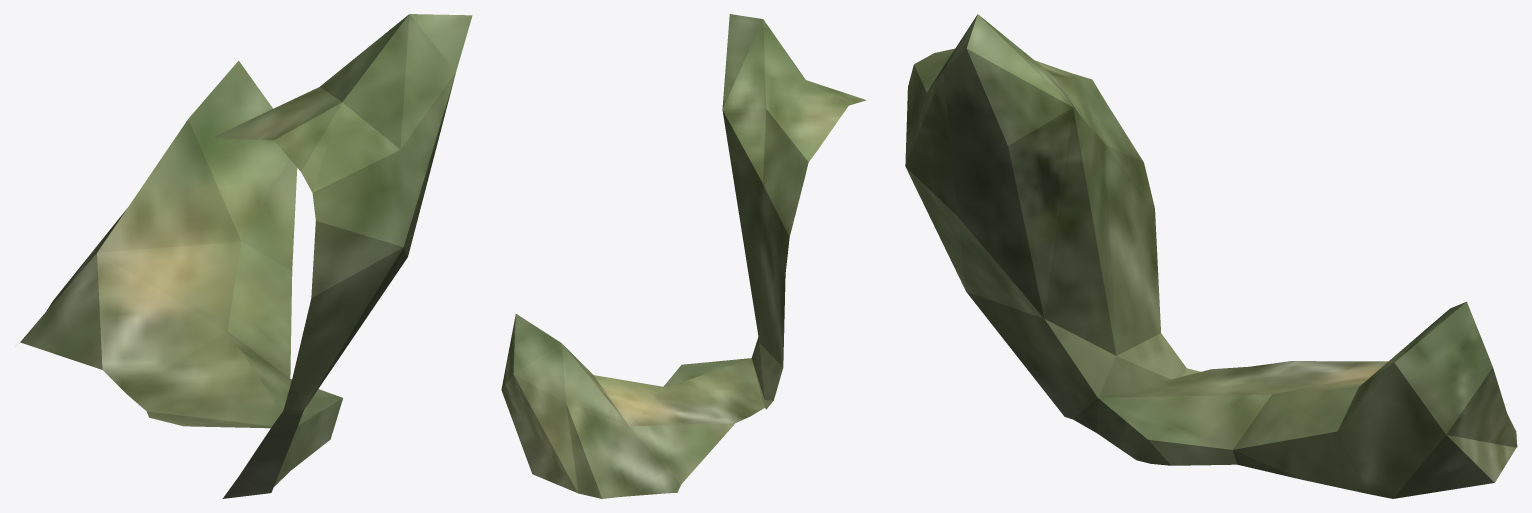
The picture shows the model from 3 angles, left to right: view 1: azimuth 30°, elevation 25°; view 2: azimuth 150°, elevation 25°; view 3: azimuth 270°, elevation 25°; orthographic projection. The views are drawn at different scales.
Size of the model in its own units: 0.6876 by 1.21 by 1.52.
Materials: 1 (1 with a texture image).
